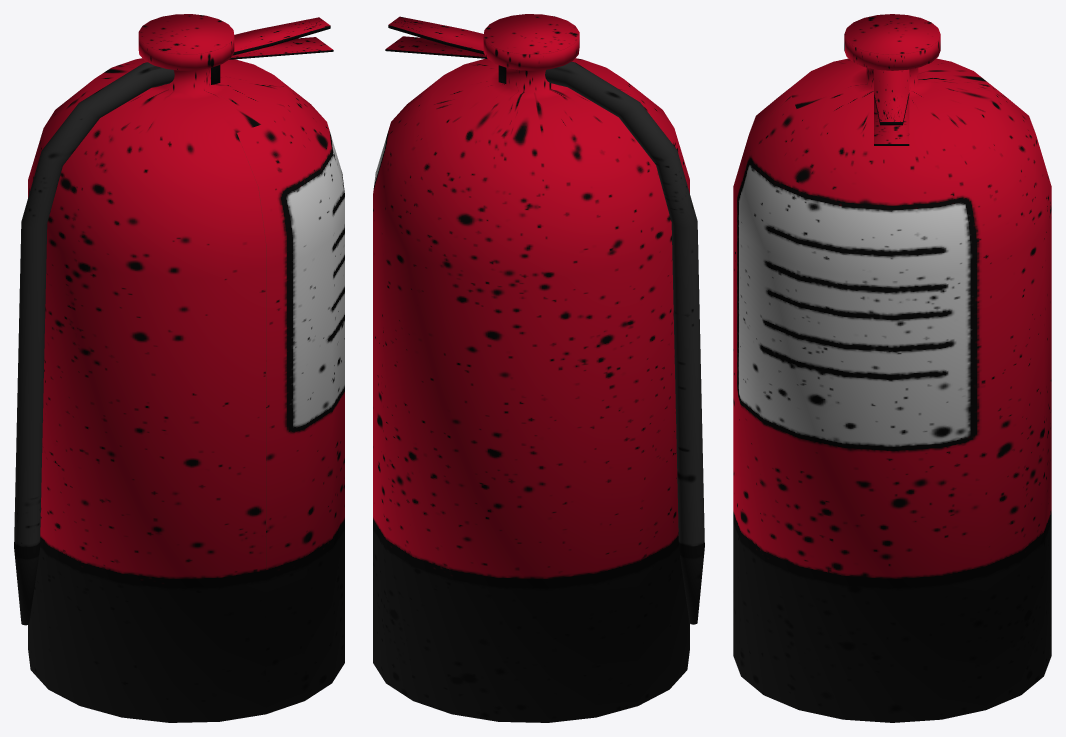
File: extinguisher.obj
3 renders of one model, left to right at view 1: azimuth 30°, elevation 25°; view 2: azimuth 150°, elevation 25°; view 3: azimuth 270°, elevation 25°, orthographic.
Visible parts, largest first — view 1: extinguisher; view 2: extinguisher; view 3: extinguisher.
Boxes of the visible parts, <box> form: extinguisher: <box>14,14,344,722</box>; extinguisher: <box>373,14,704,722</box>; extinguisher: <box>733,14,1051,722</box>.
Bounding box in the file's own units: 2.24 × 4.31 × 2.
